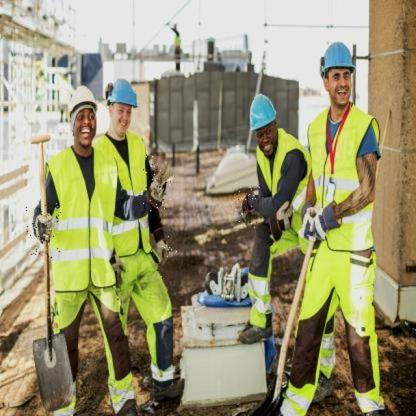bota: (237, 310, 273, 346), (151, 368, 186, 401)
capacete: (319, 40, 356, 106), (66, 84, 100, 147), (248, 93, 278, 156), (105, 78, 138, 132)
